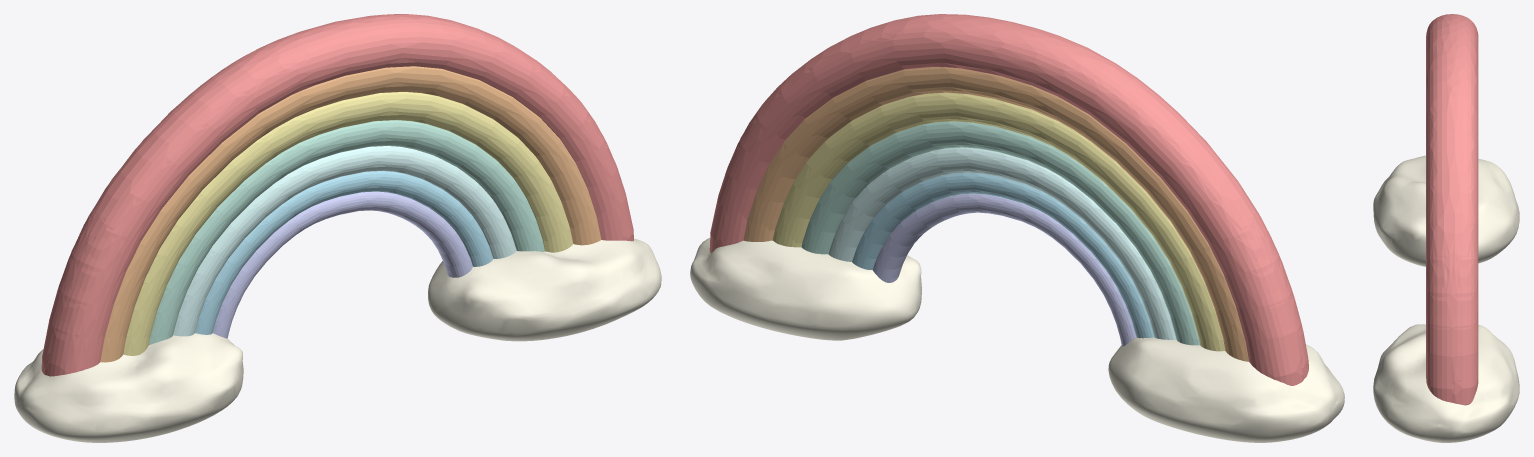
Rendered from gate-rainbow.gltf.
The picture shows the model from 3 angles, left to right: view 1: azimuth 30°, elevation 25°; view 2: azimuth 150°, elevation 25°; view 3: azimuth 270°, elevation 25°; orthographic projection. The views are drawn at different scales.
Visible parts, largest first — view 1: Cube.101, Cube.088, Cube.102, Cube.107, Cube.103, Cube.100, Cube.104, Cube.105, Cube.099; view 2: Cube.101, Cube.102, Cube.088, Cube.103, Cube.107, Cube.100, Cube.104, Cube.105, Cube.099; view 3: Cube.101, Cube.107, Cube.088.
Part boxes in pixels (<box>): Cube.101: <box>41,14,633,376</box>; Cube.088: <box>14,333,243,442</box>; Cube.102: <box>100,66,601,362</box>; Cube.107: <box>428,238,661,341</box>; Cube.103: <box>123,92,573,355</box>; Cube.100: <box>149,120,544,344</box>; Cube.104: <box>173,146,516,336</box>; Cube.105: <box>195,171,493,334</box>; Cube.099: <box>212,191,472,338</box>; Cube.101: <box>709,14,1308,385</box>; Cube.102: <box>743,67,1249,361</box>; Cube.088: <box>1108,337,1344,442</box>; Cube.103: <box>772,92,1225,351</box>; Cube.107: <box>690,238,921,340</box>; Cube.100: <box>801,121,1199,345</box>; Cube.104: <box>828,147,1176,339</box>; Cube.105: <box>852,172,1154,338</box>; Cube.099: <box>873,193,1136,346</box>; Cube.101: <box>1426,14,1478,405</box>; Cube.107: <box>1373,324,1519,442</box>; Cube.088: <box>1373,155,1519,266</box>.
Bounding box in the file's own units: 35.22 × 18.41 × 8.37.
